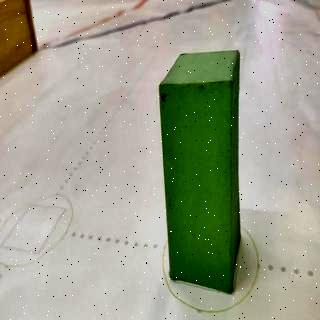greenbox: (158, 49, 242, 294)
